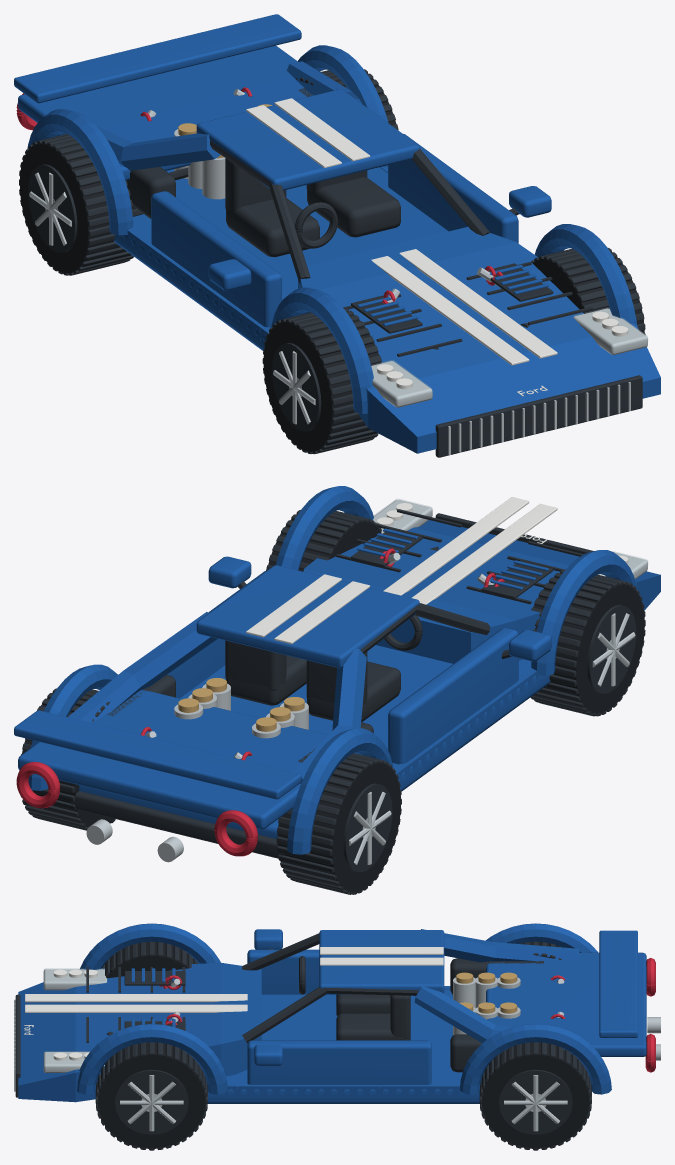
File: brick-ford-gt.glb
The picture shows the model from 3 angles, top to bottom: view 1: azimuth 30°, elevation 25°; view 2: azimuth 150°, elevation 25°; view 3: azimuth 270°, elevation 25°; orthographic projection. The views are drawn at different scales.
Parts seen in each view (by area): view 1: brick-ford-gt authored assembly; view 2: brick-ford-gt authored assembly; view 3: brick-ford-gt authored assembly.
Part boxes in pixels (left/top/right/bottom): brick-ford-gt authored assembly: left=14, top=14, right=660, bottom=457; brick-ford-gt authored assembly: left=14, top=486, right=660, bottom=894; brick-ford-gt authored assembly: left=14, top=923, right=660, bottom=1150.
Size of the model in its own units: 0.18 by 0.09 by 0.39.
